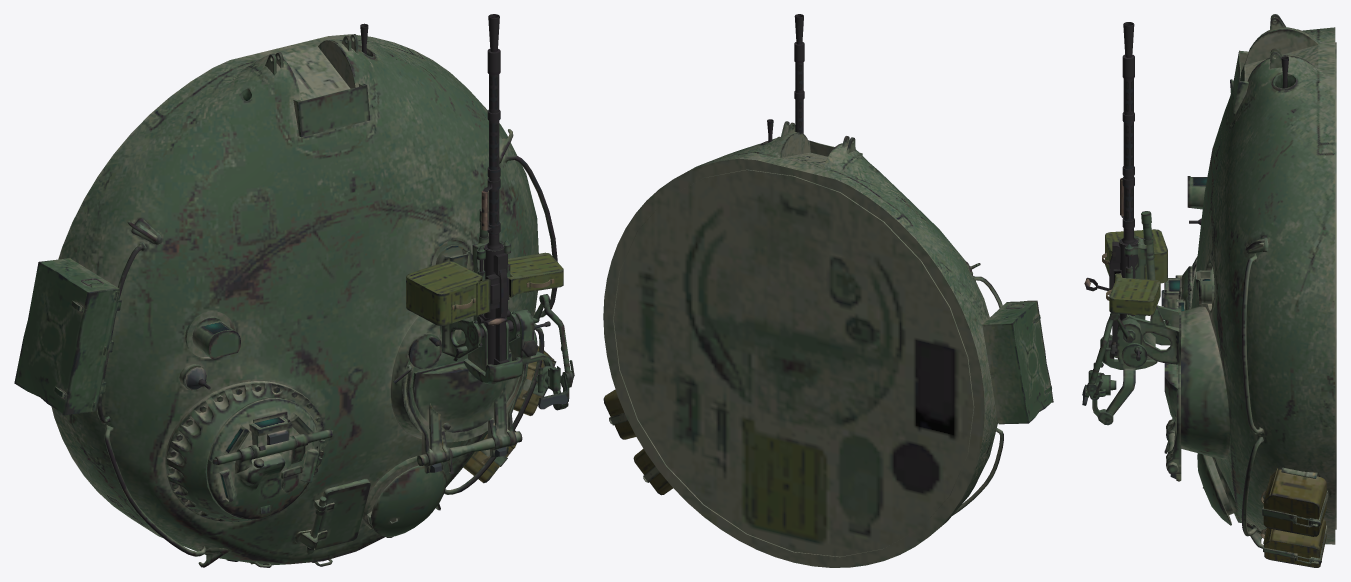
File: Turret_01.glb
3 views of the same model, side by side, from view 1: azimuth 30°, elevation 25°; view 2: azimuth 150°, elevation 25°; view 3: azimuth 270°, elevation 25° (orthographic). The views are drawn at different scales.
Parts seen in each view (by area): view 1: set_0_group_0; view 2: set_0_group_0; view 3: set_0_group_0.
Boxes of the visible parts, bbox=[...] form: set_0_group_0: bbox=[14, 14, 574, 567]; set_0_group_0: bbox=[603, 14, 1053, 567]; set_0_group_0: bbox=[1082, 14, 1336, 567].
Bounding box in the file's own units: 3 × 3.16 × 1.33.
1 material, 1 textured.
